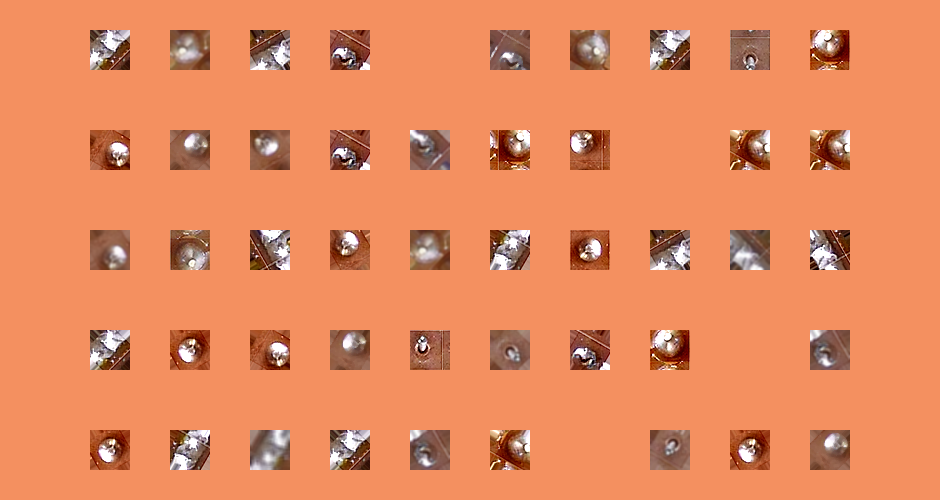Soldas_ausente: (730, 30, 770, 70), (410, 330, 450, 370), (490, 330, 530, 370), (650, 430, 690, 470)
Soldas_boas: (90, 130, 130, 170), (170, 130, 210, 170), (250, 130, 290, 170), (570, 130, 610, 170), (90, 230, 130, 270), (330, 230, 370, 270), (570, 230, 610, 270), (170, 330, 210, 370), (250, 330, 290, 370), (330, 330, 370, 370), (90, 430, 130, 470), (730, 430, 770, 470), (810, 430, 850, 470)
Soldas_excesso: (170, 30, 210, 70), (570, 30, 610, 70), (810, 30, 850, 70), (490, 130, 530, 170), (730, 130, 770, 170), (810, 130, 850, 170), (170, 230, 210, 270), (410, 230, 450, 270), (650, 330, 690, 370), (490, 430, 530, 470)
Soldas_ponte: (90, 30, 130, 70), (250, 30, 290, 70), (650, 30, 690, 70), (250, 230, 290, 270), (490, 230, 530, 270), (650, 230, 690, 270), (730, 230, 770, 270), (810, 230, 850, 270), (90, 330, 130, 370), (170, 430, 210, 470), (250, 430, 290, 470), (330, 430, 370, 470)
Soldas_pouca: (330, 30, 370, 70), (490, 30, 530, 70), (330, 130, 370, 170), (410, 130, 450, 170), (570, 330, 610, 370), (810, 330, 850, 370), (410, 430, 450, 470)
